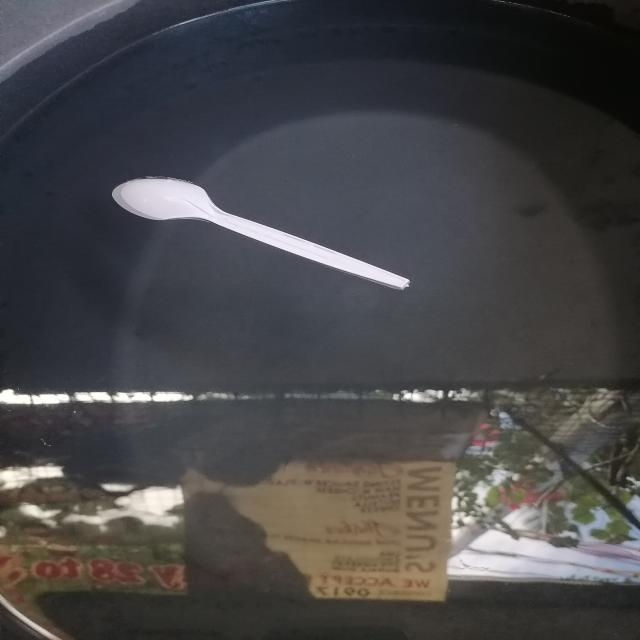Plastic Spoon: (112, 177, 409, 289)
